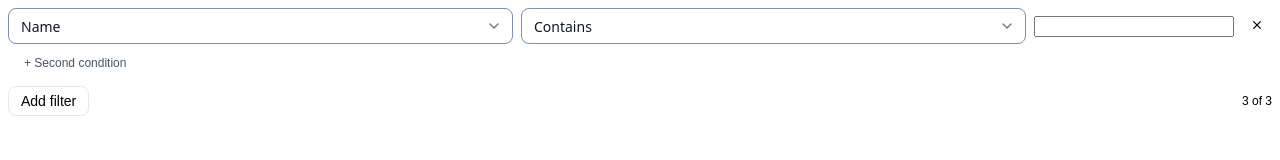
Test case: DataFilter › summary reports the applied count
The width and height of the screenshot is (1280, 160).
Check: the text "3 of 3" is shown, box [1242,94,1272,108]
Type "o" into the field named "Name" at [1134, 26], box [1034,16,1234,36]
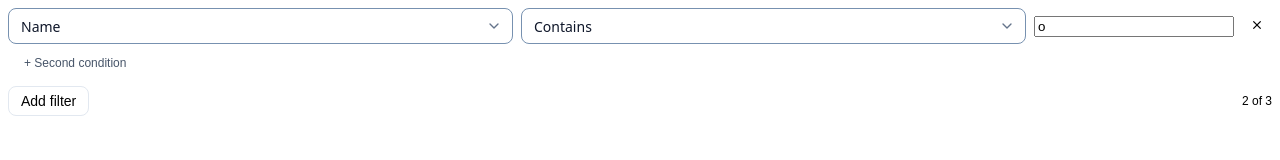
Check: the text "2 of 3" is shown, box [1242,94,1272,108]
